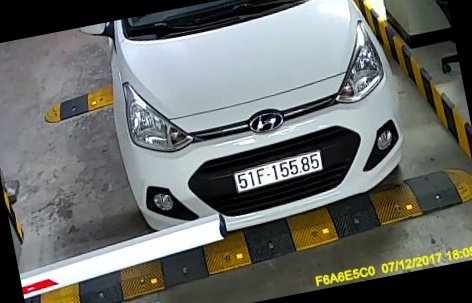plate: (230, 153, 331, 197)
